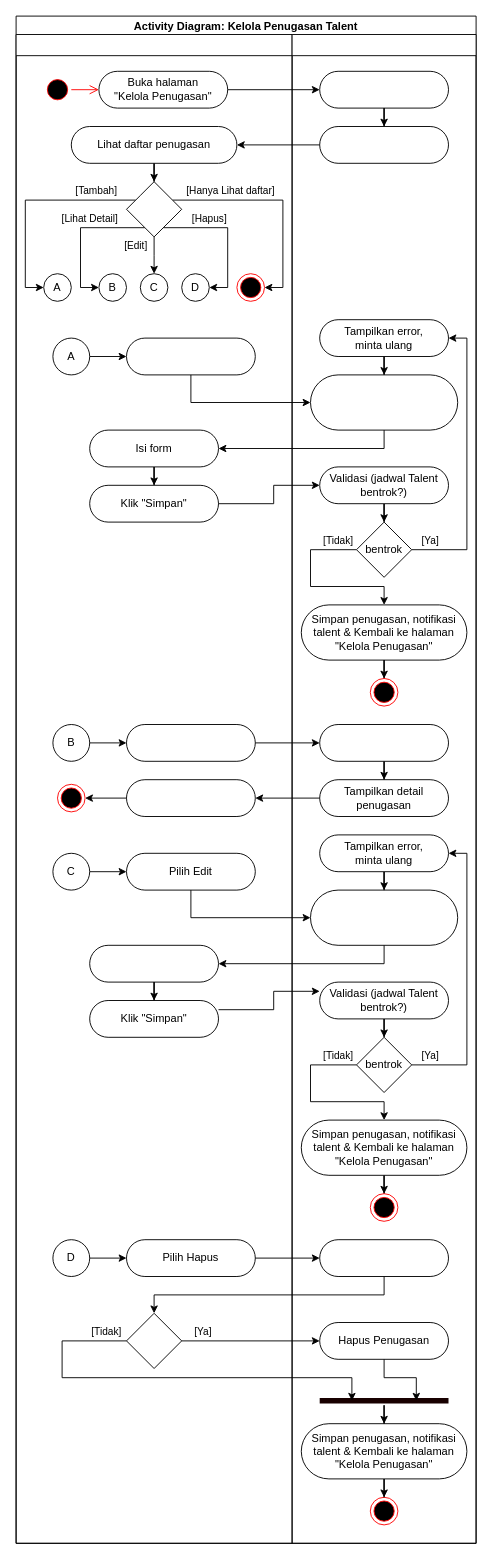
This 492x1559 diagram has some shape labels left out. Each missing label, with the box of its shape:
aksi: (126, 181, 182, 237)
Ambil daftar penugasan: (319, 70, 448, 108)
Ambil detail penugasan: (319, 724, 448, 761)
hapus: (126, 1312, 182, 1368)
konfirmasi penghapusan: (319, 1239, 448, 1276)
Lihat detail penugasan: (126, 779, 255, 816)
Pilih Lihat: (126, 724, 255, 761)
Pilih Tambah: (126, 337, 255, 375)
SDM (Diklat): (15, 34, 292, 1543)
Sistem: (291, 34, 476, 1543)
Tampilkan daftar penugasan: (319, 126, 448, 163)
Tampilkan form dengan data penugasan terisi: (310, 889, 458, 945)
Tampilkan form tambah penugasan (pilih event, talent): (310, 374, 458, 430)
Ubah data: (89, 944, 218, 982)
